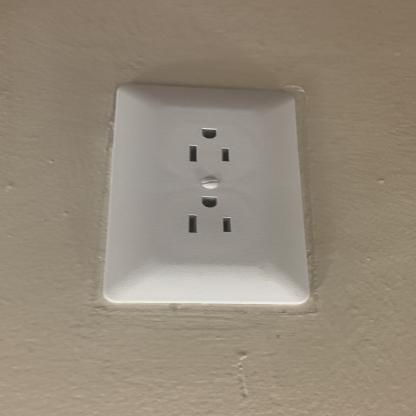OUTLET: (101, 82, 303, 306)
